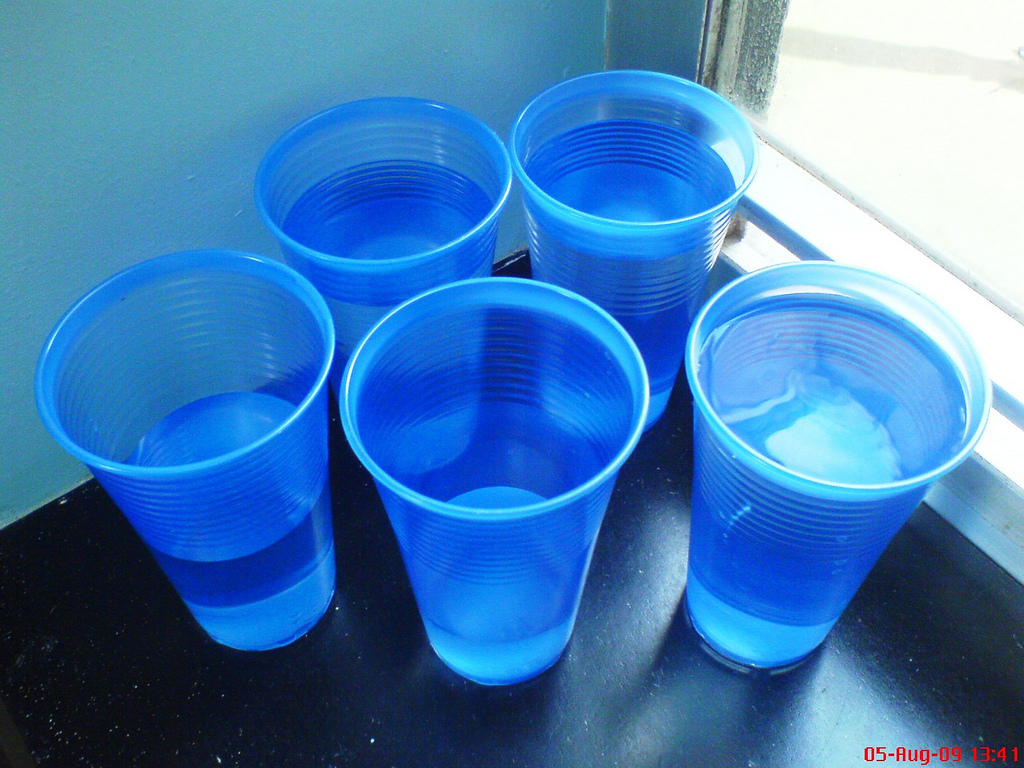glass of water: (65, 302, 342, 650), (370, 302, 601, 699), (701, 312, 904, 707)
